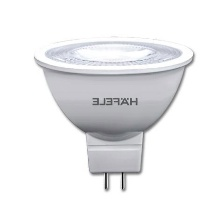light_bulb: (30, 32, 197, 192)
